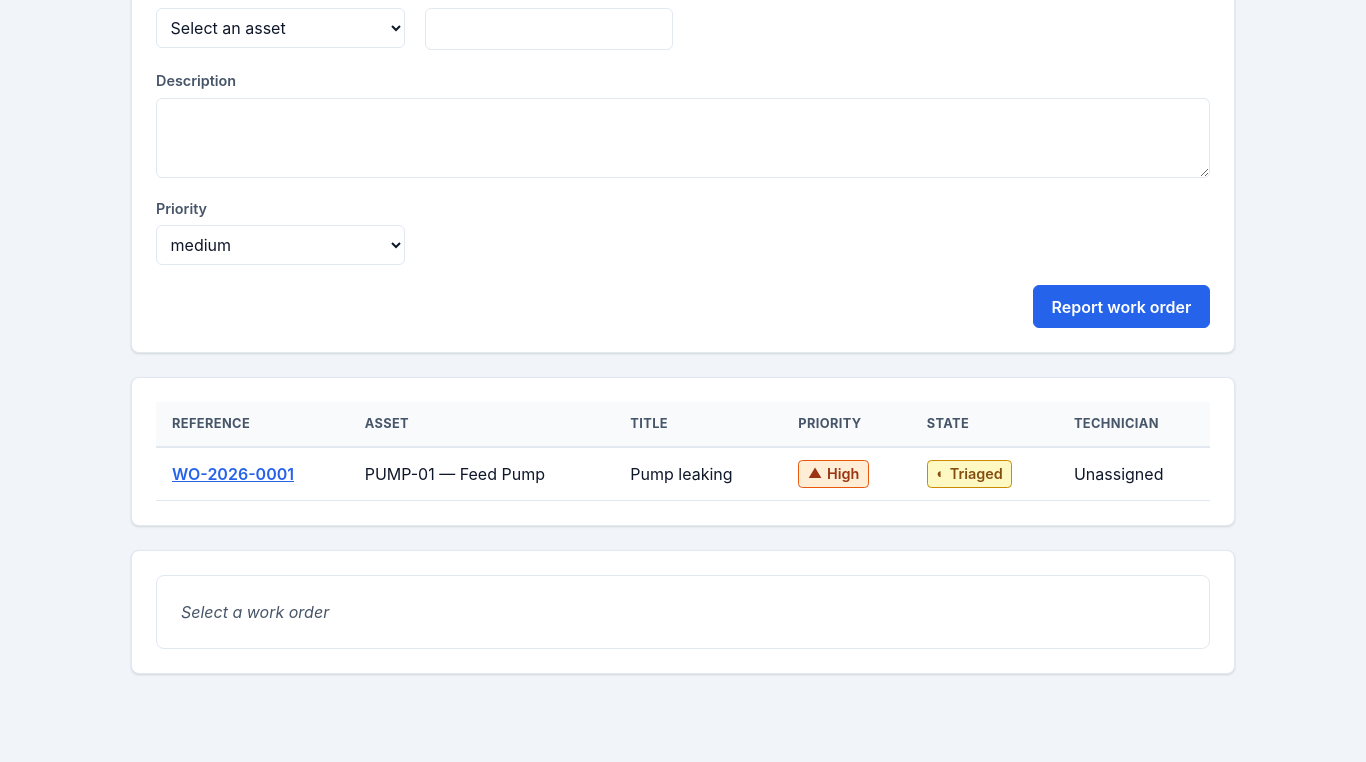
Test: App integration › selects a triaged work order, assigns a technician, schedules it, and refreshes the dashboard summary
The image size is (1366, 762).
(page scrolled)
Note: Selects the triaged work order.
Click the button "WO-2026-0001".
click(233, 474)  # box [172,462,294,486]
(page scrolled)
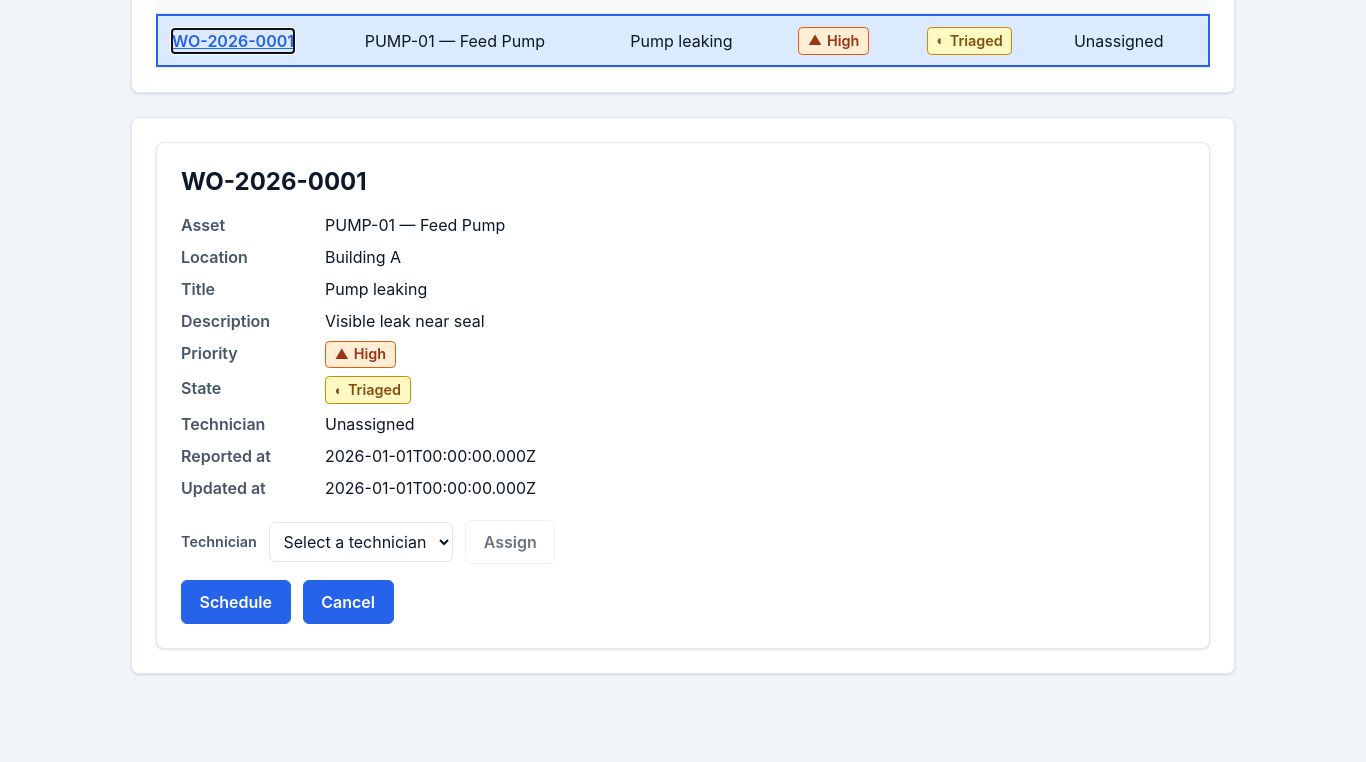
Check: the heading "WO-2026-0001" is shown, box [181,167,367,196]
Note: Assigns a technician.
Select "Jamie Rivera" in the dropdown labelled "Technician" at (361, 542), box [269,522,453,562]
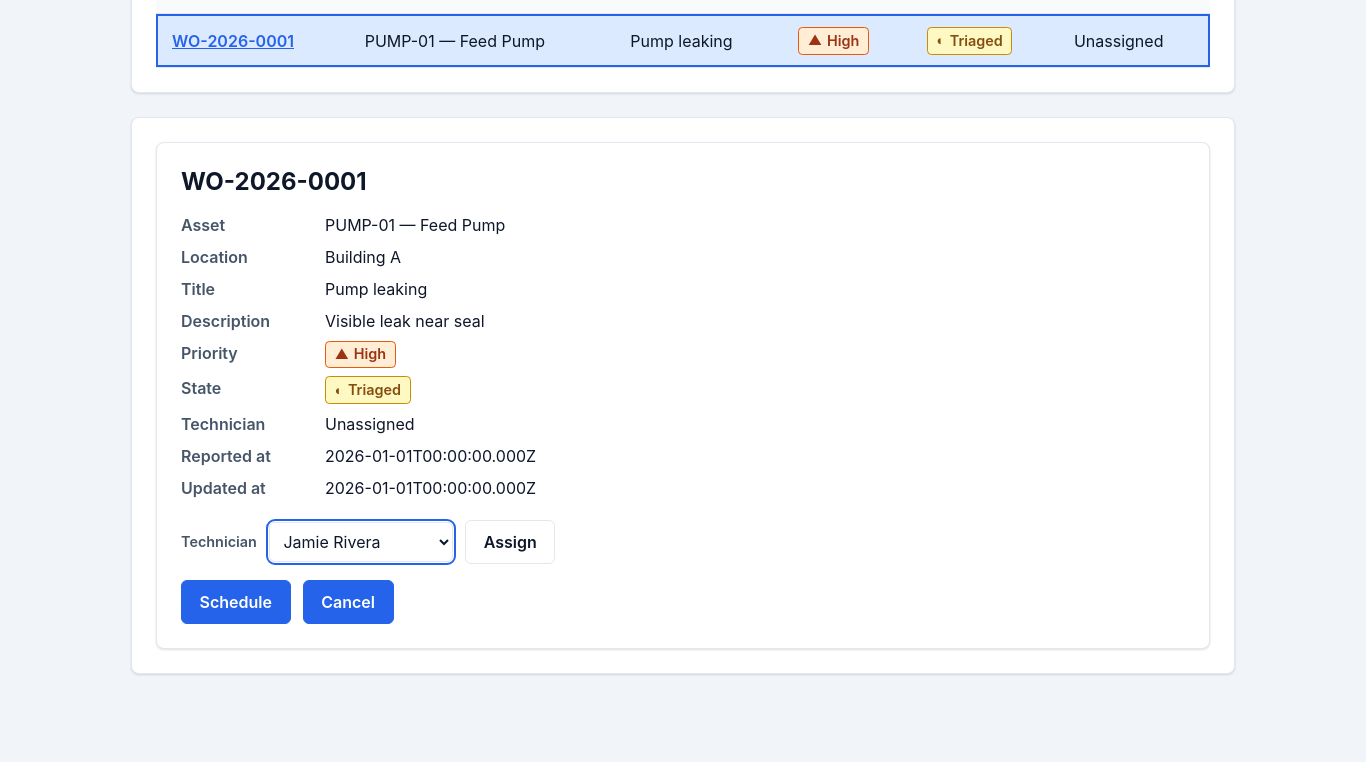
Click the button "Assign".
click(510, 542)  # box [465,520,555,564]
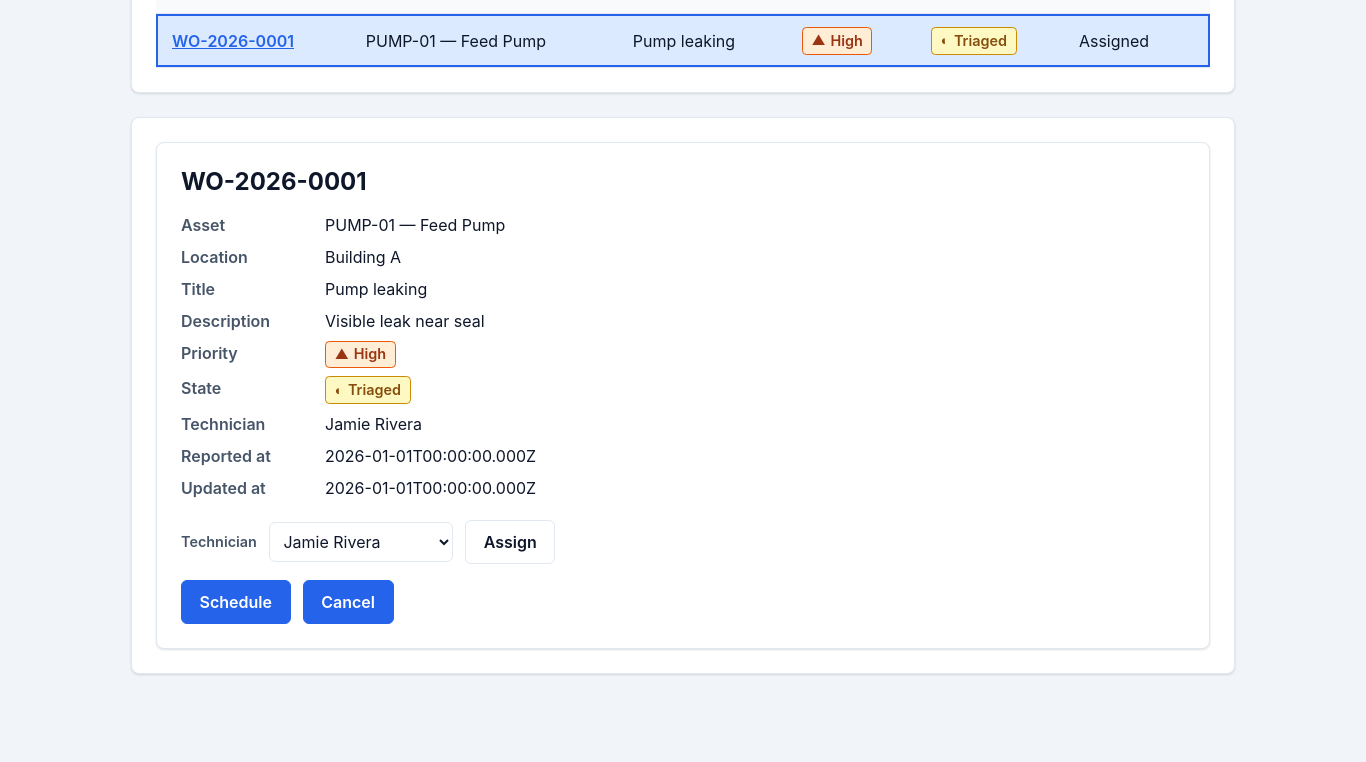
Check: the text "Jamie Rivera" is shown, box [325,414,422,434]
Note: Schedules the work order.
Click the button "Schedule".
click(236, 602)  # box [181,580,291,624]
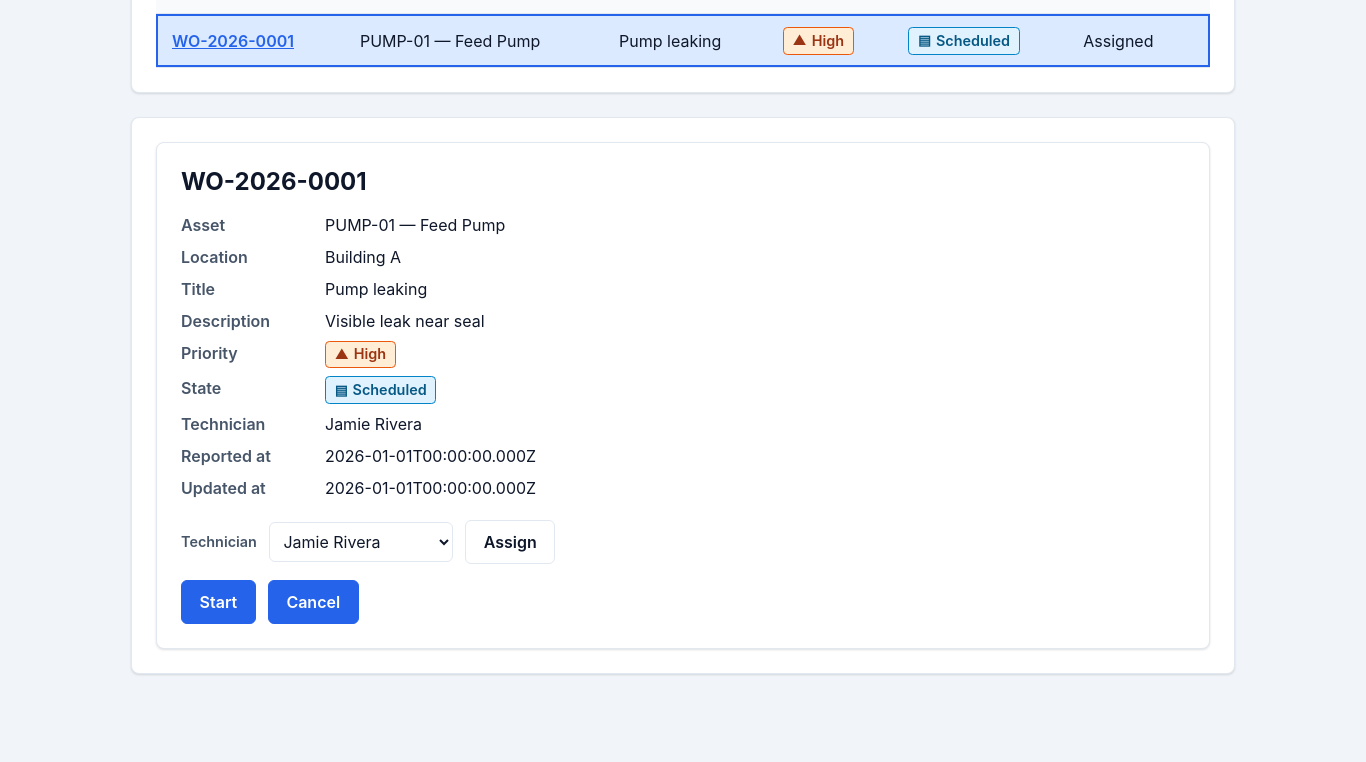
Check: the row "WO-2026-0001" is shown, box [156,14,1210,67]
Check: the 1st text "Scheduled" is shown, box [936,30,1010,51]
Check: the text "Scheduled" below "Visible leak near seal" is shown, box [353,381,427,398]
